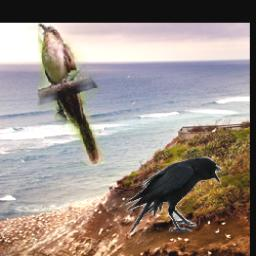Crow: (124, 156, 222, 232)
Cuckoo: (39, 23, 105, 166)
